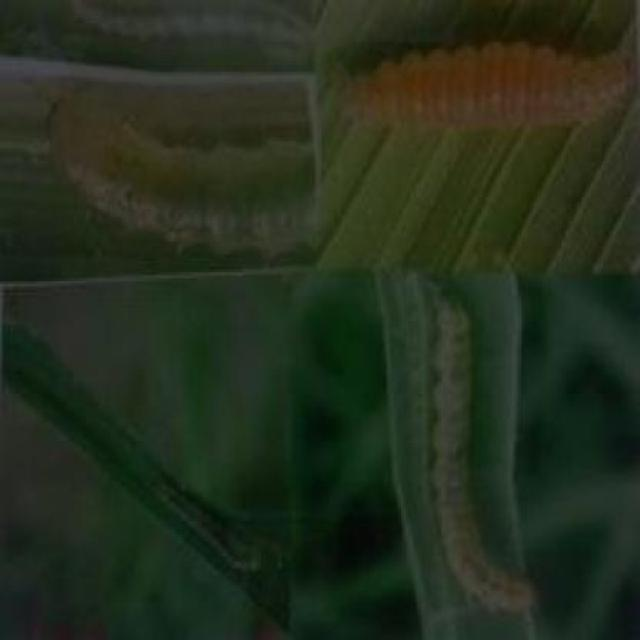leaf-folder: (403, 263, 555, 611), (50, 71, 312, 263), (353, 20, 624, 154), (151, 462, 278, 588), (61, 0, 308, 62)
